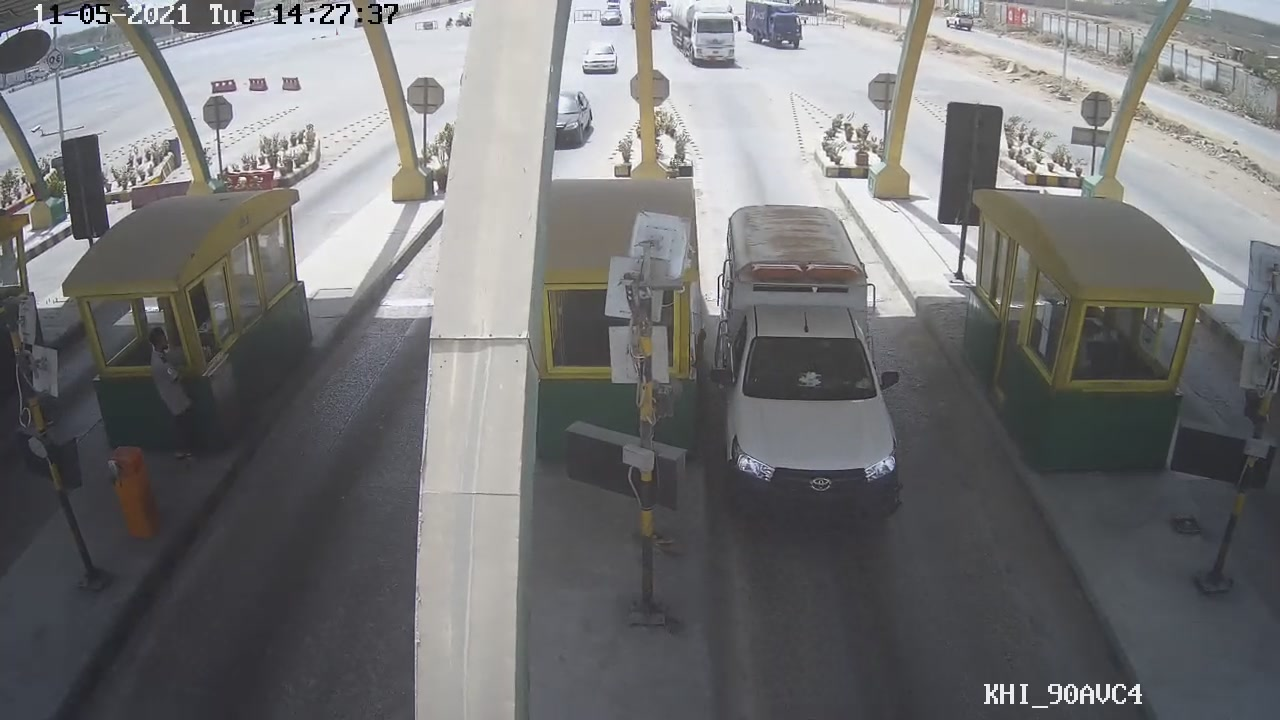F1: (707, 232, 906, 525)
